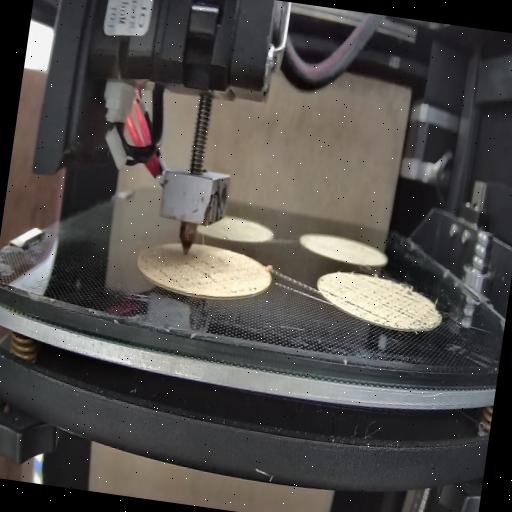under_extrusion: (140, 254, 264, 298), (340, 279, 434, 331), (318, 283, 340, 302)
